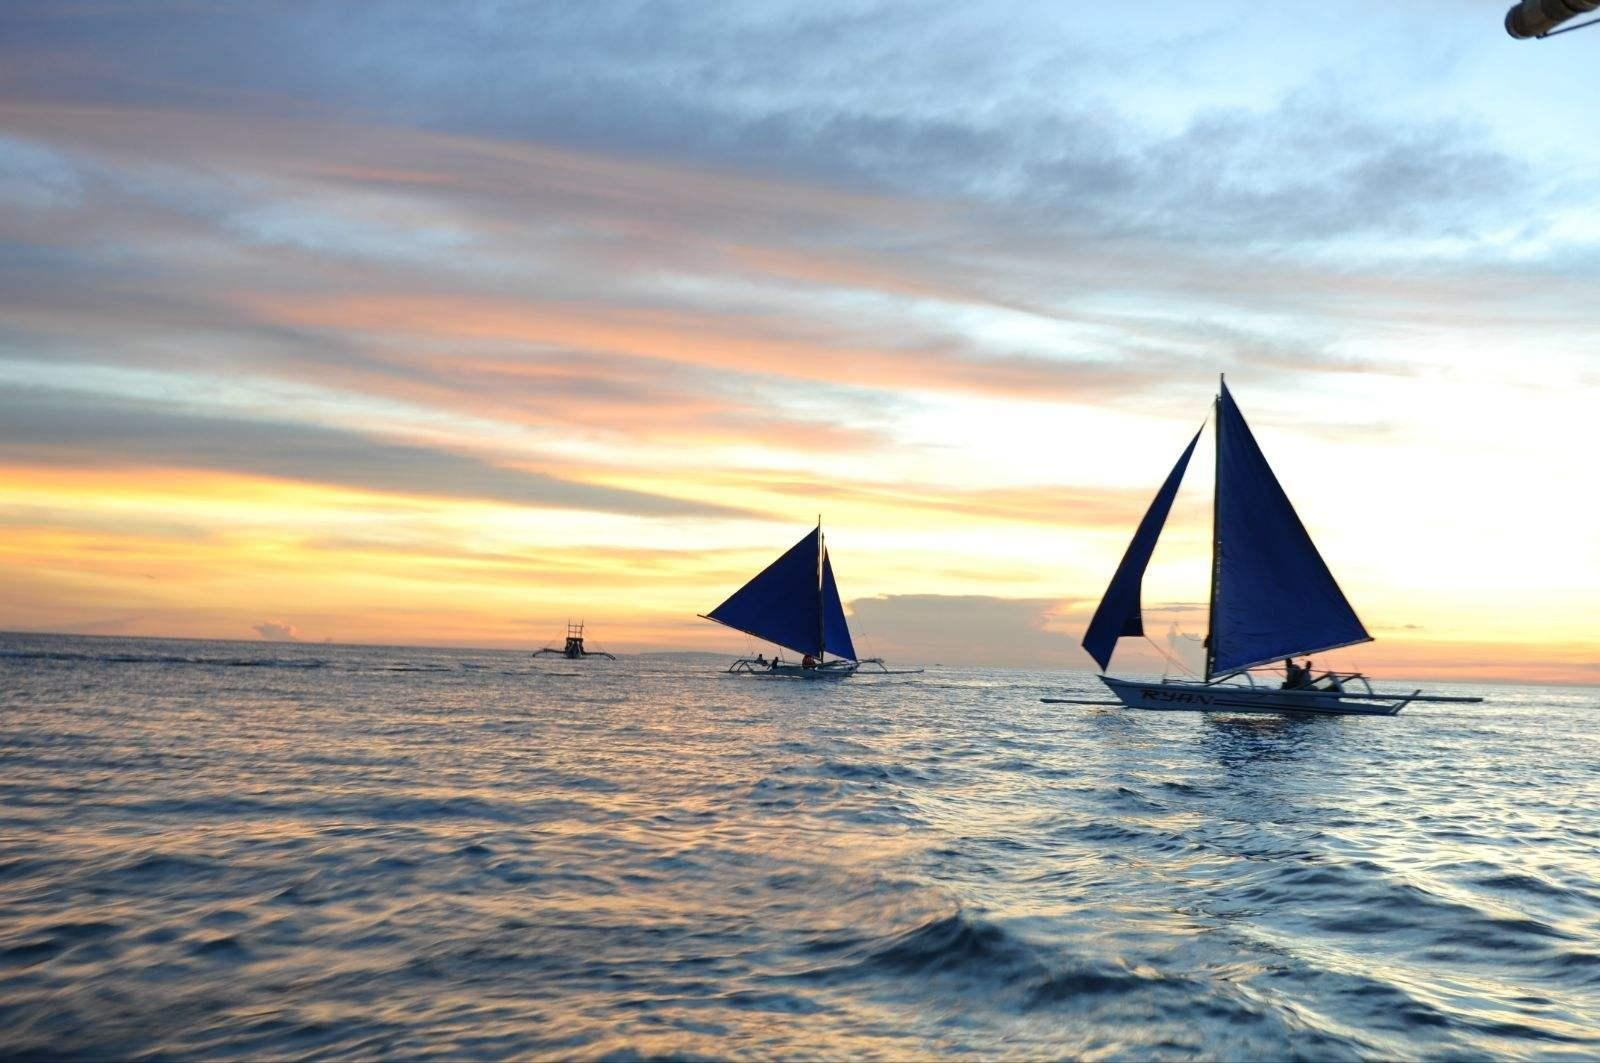fanchuan: (1079, 369, 1479, 704), (720, 510, 879, 683)
